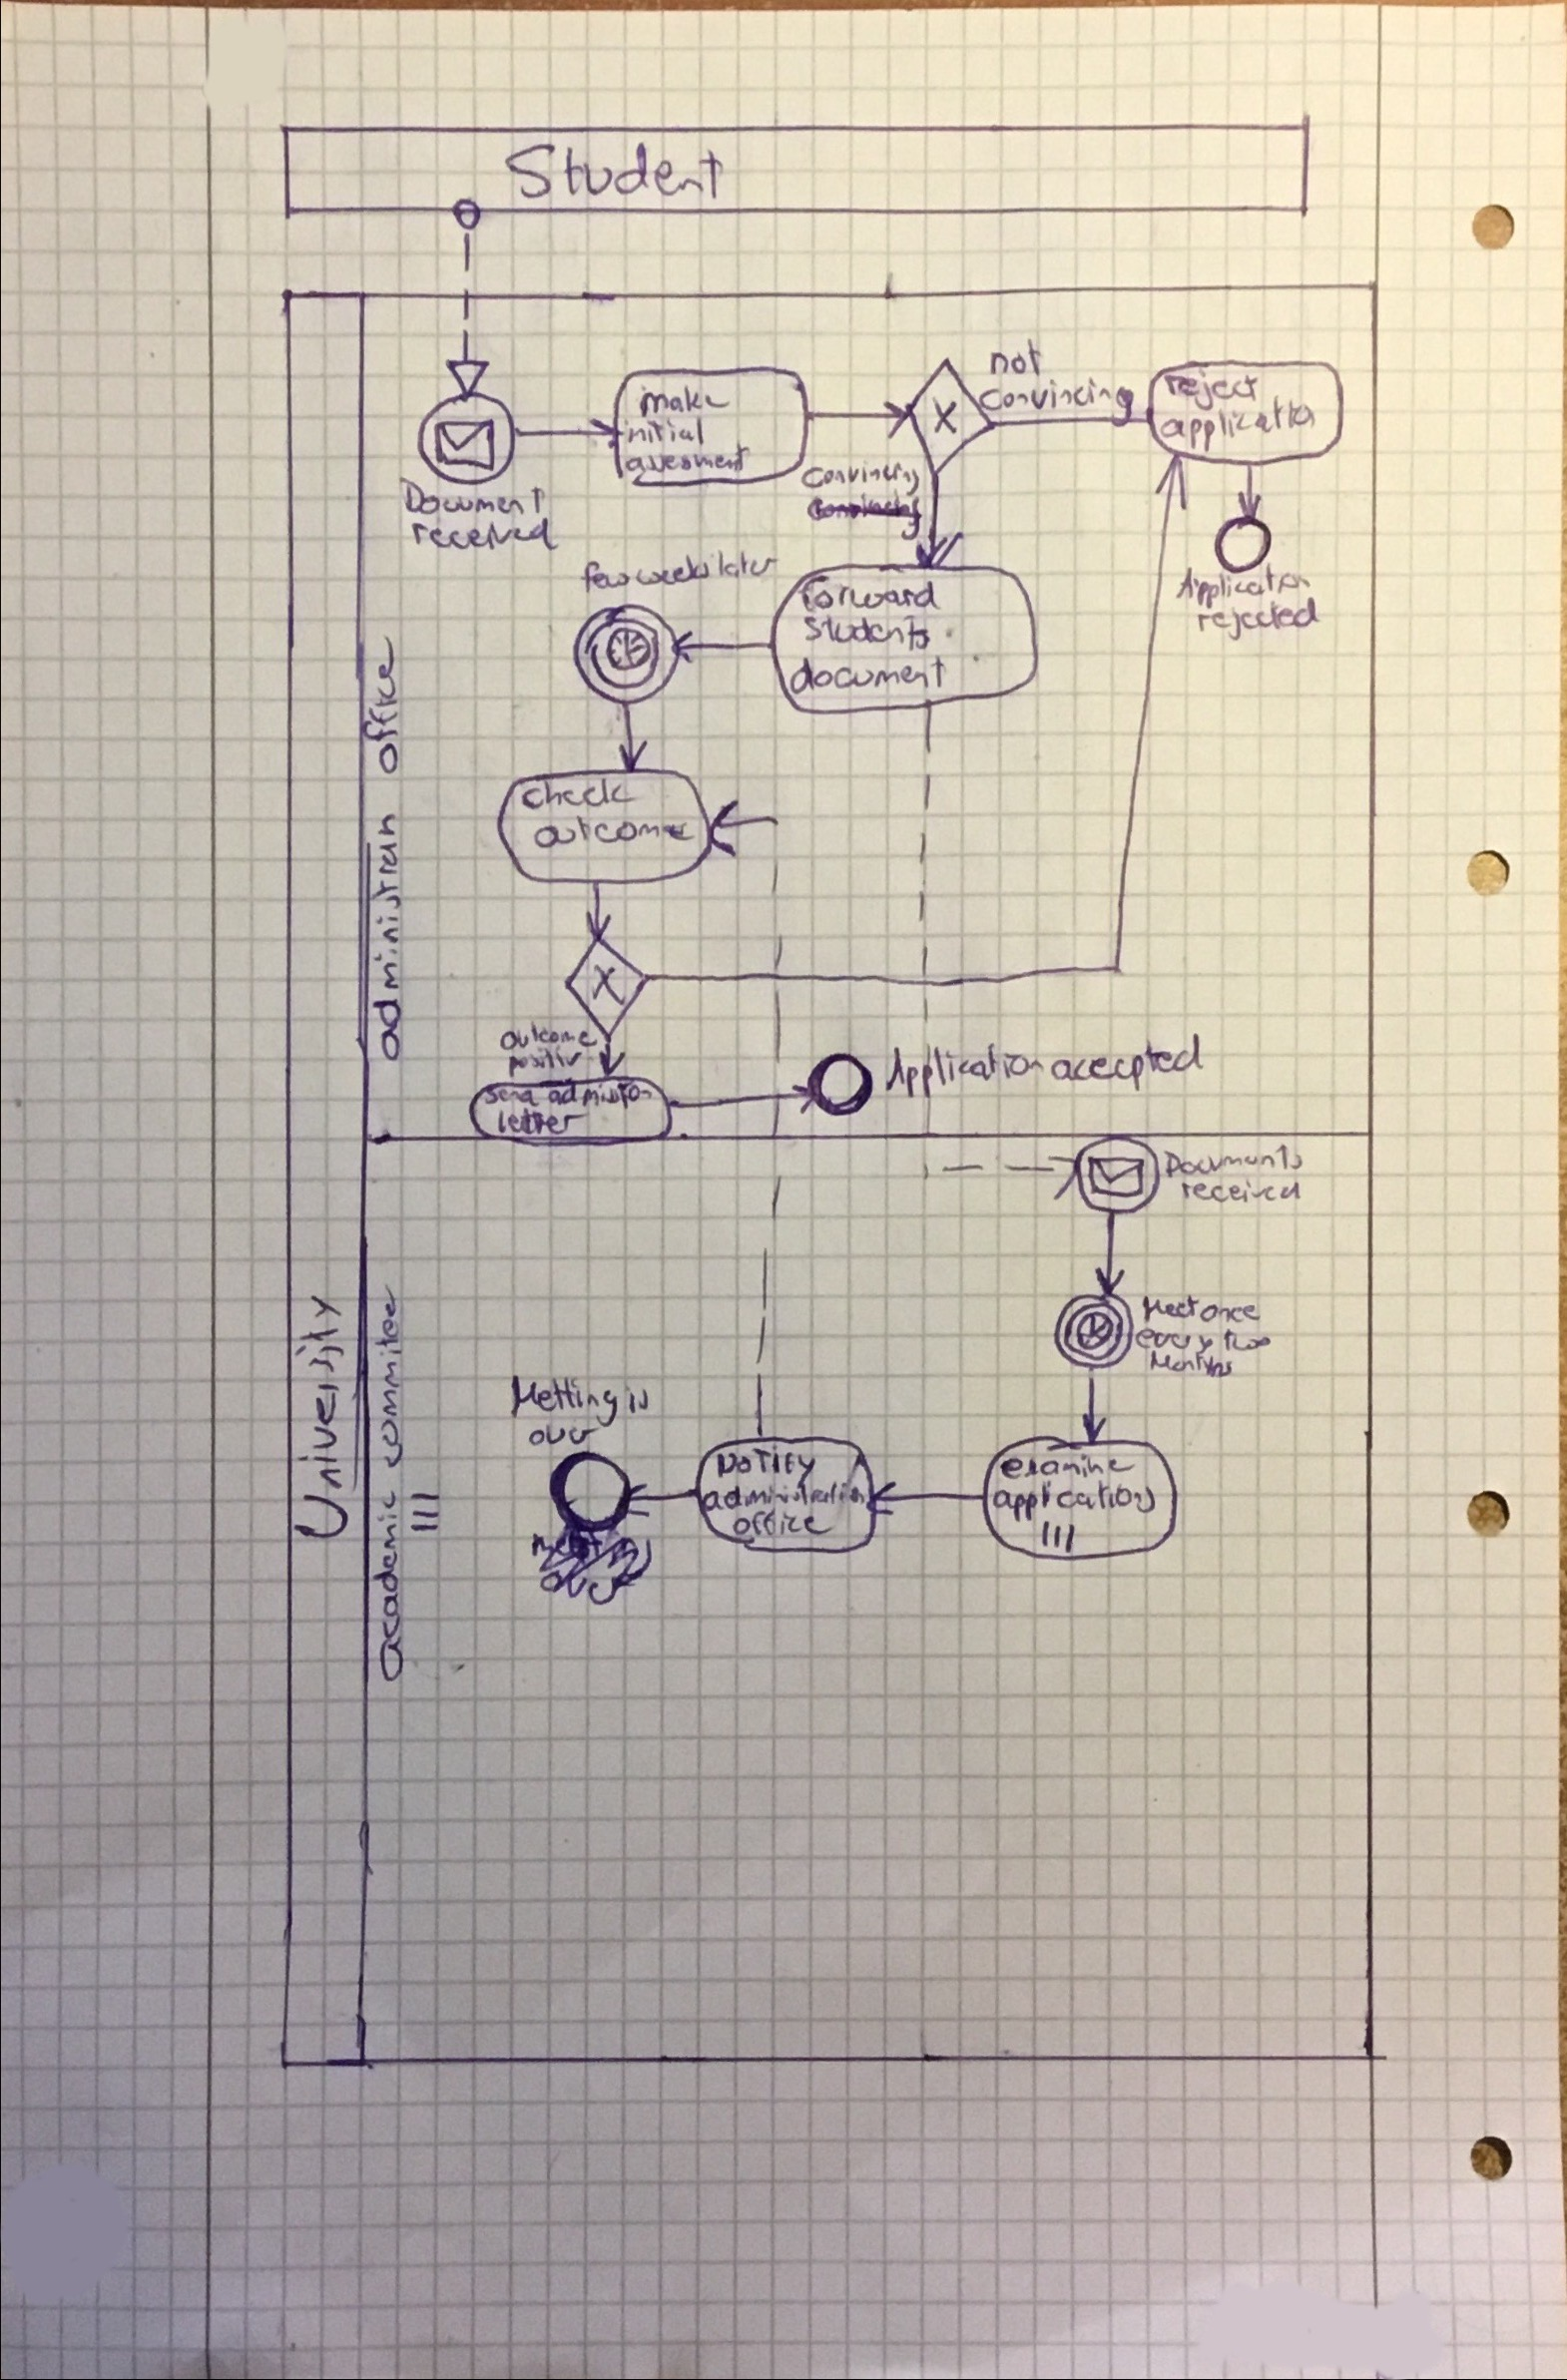111: (403, 1475, 441, 1539)
Application: (881, 1033, 1042, 1096), (1175, 566, 1308, 610)
Check: (525, 775, 643, 814)
Convincing: (981, 373, 1132, 425), (807, 460, 925, 492)
Document: (403, 483, 547, 519)
Documents: (1164, 1145, 1303, 1183)
III: (1035, 1517, 1079, 1566)
Meet: (1146, 1291, 1199, 1325)
Metting: (517, 1376, 609, 1420)
Months: (1158, 1349, 1238, 1382)
NOTIFY: (720, 1448, 817, 1481)
Outcome: (502, 1028, 605, 1055)
Student: (523, 142, 727, 203)
University: (298, 1303, 354, 1530)
academic: (370, 1475, 415, 1679)
accepted: (1039, 1032, 1210, 1093)
administration: (366, 798, 409, 1064)
administrations: (705, 1478, 871, 1510)
admission: (548, 1078, 655, 1106)
application: (1165, 395, 1316, 449)
applications: (993, 1483, 1159, 1520)
assessment: (623, 446, 755, 478)
commitee: (370, 1289, 406, 1468)
document: (783, 658, 945, 695)
every: (1132, 1321, 1211, 1349)
examine: (1006, 1454, 1136, 1482)
few: (577, 558, 640, 595)
forward: (797, 577, 939, 616)
initial: (615, 417, 705, 451)
is: (615, 1380, 653, 1422)
later: (707, 548, 781, 586)
letter: (487, 1105, 594, 1138)
make: (637, 385, 733, 418)
not: (989, 341, 1050, 378)
office: (362, 646, 402, 775), (720, 1508, 837, 1543)
once: (1201, 1295, 1264, 1329)
outcome: (526, 807, 709, 856)
over: (527, 1416, 583, 1450)
positive: (503, 1047, 576, 1081)
received: (408, 516, 562, 553), (1178, 1179, 1304, 1206)
reject: (1158, 370, 1266, 409)
rejected: (1187, 595, 1323, 644)
send: (484, 1082, 544, 1113)
students: (802, 614, 932, 652)
two: (1214, 1326, 1270, 1355)
weeks: (643, 553, 704, 591)
